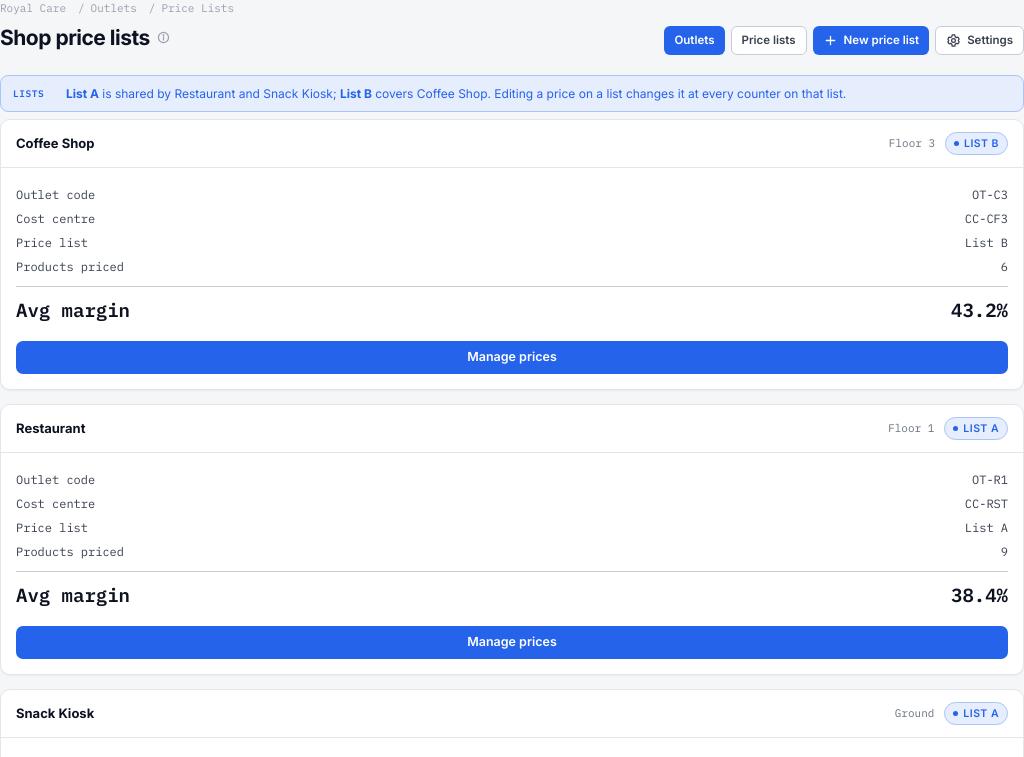
Test case: the price lists tab › blocks deleting a list still active at an outlet, and allows an unattached one
Click the button "Price lists": (769, 40) [730, 26, 807, 55]
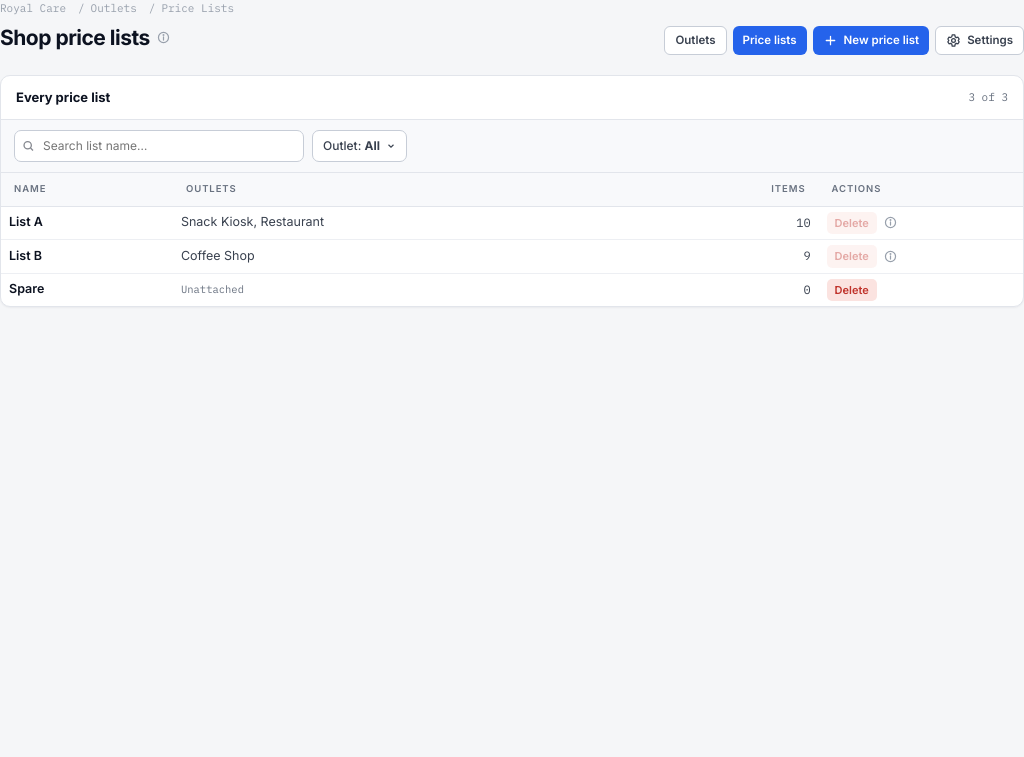
Expected: the button "Delete" in the row of "List A" is disabled, [827, 212, 877, 234]
